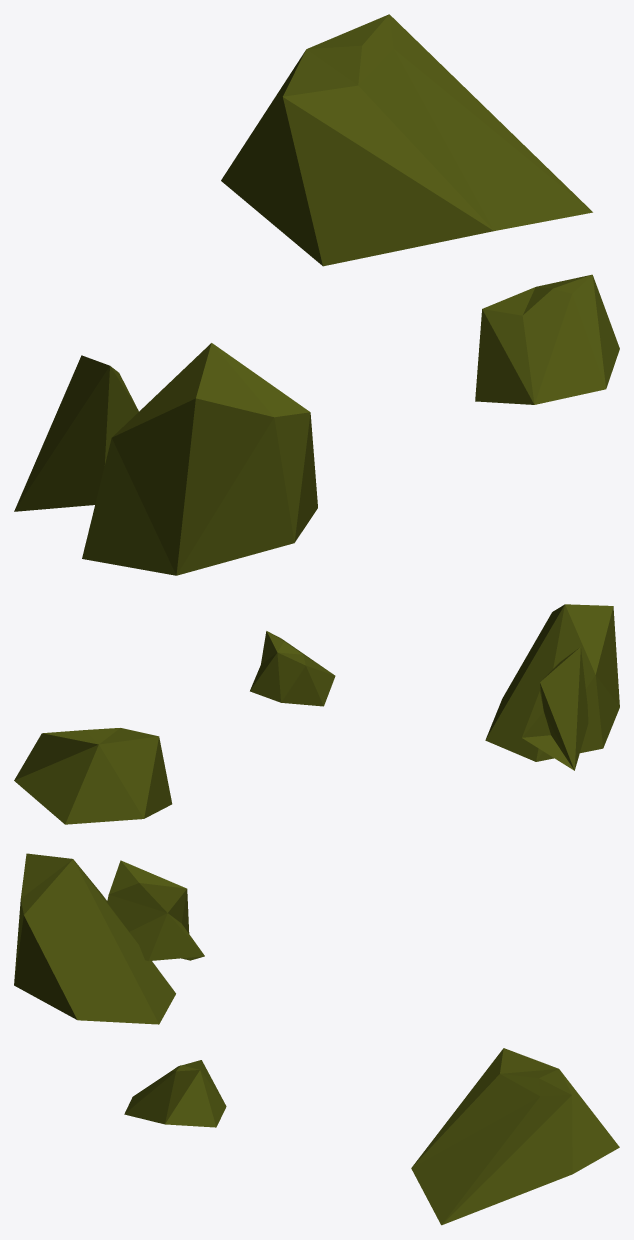
The model's file is plane_lava_rock01.FBX.
The picture shows the model from 3 angles, top to bottom: view 1: azimuth 30°, elevation 25°; view 2: azimuth 150°, elevation 25°; view 3: azimuth 270°, elevation 25°; orthographic projection. The views are drawn at different scales.
Visible parts, largest first — view 1: rock004; view 2: rock004; view 3: rock004.
Part boxes in pixels (x1=…): rock004: x1=14, y1=14, x2=619, y2=575; rock004: x1=14, y1=604, x2=619, y2=824; rock004: x1=14, y1=853, x2=619, y2=1225.
Size of the model in its own units: 30.69 by 9.21 by 32.06.
